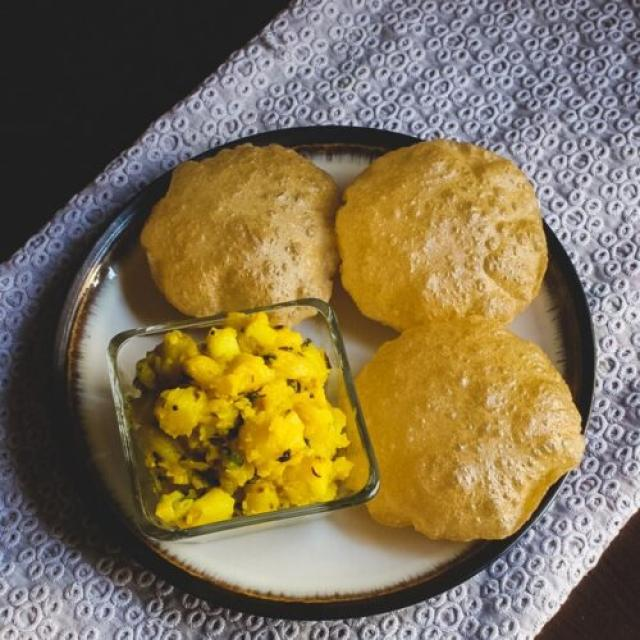poori: (348, 320, 598, 556), (333, 130, 562, 340), (134, 132, 342, 324)
